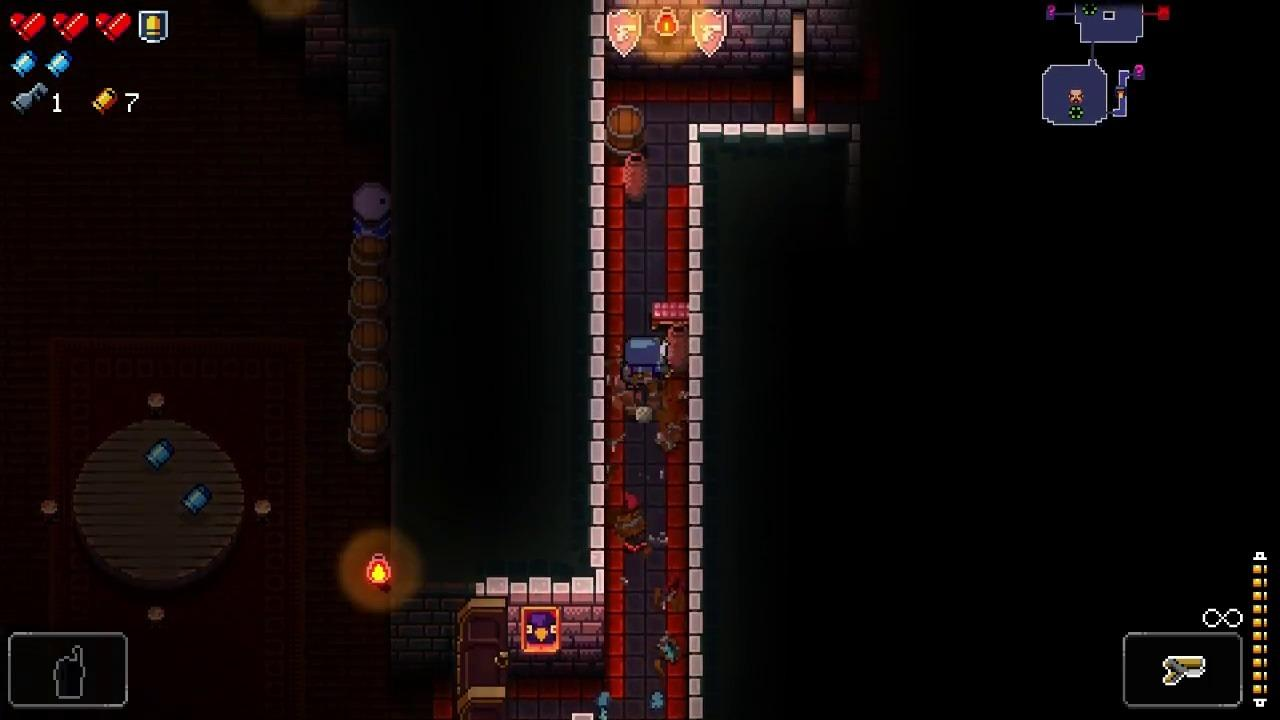player: (623, 336, 665, 387)
unlocked_door: (458, 597, 507, 720), (791, 7, 807, 123)
